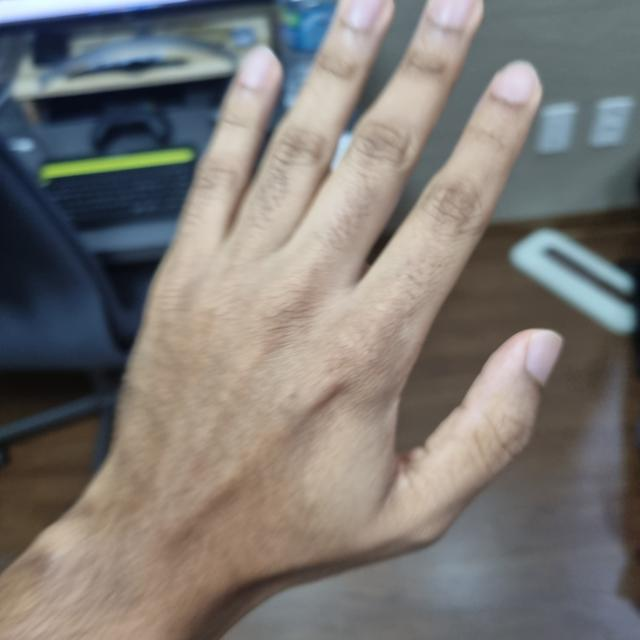Paper: (115, 1, 552, 591)
